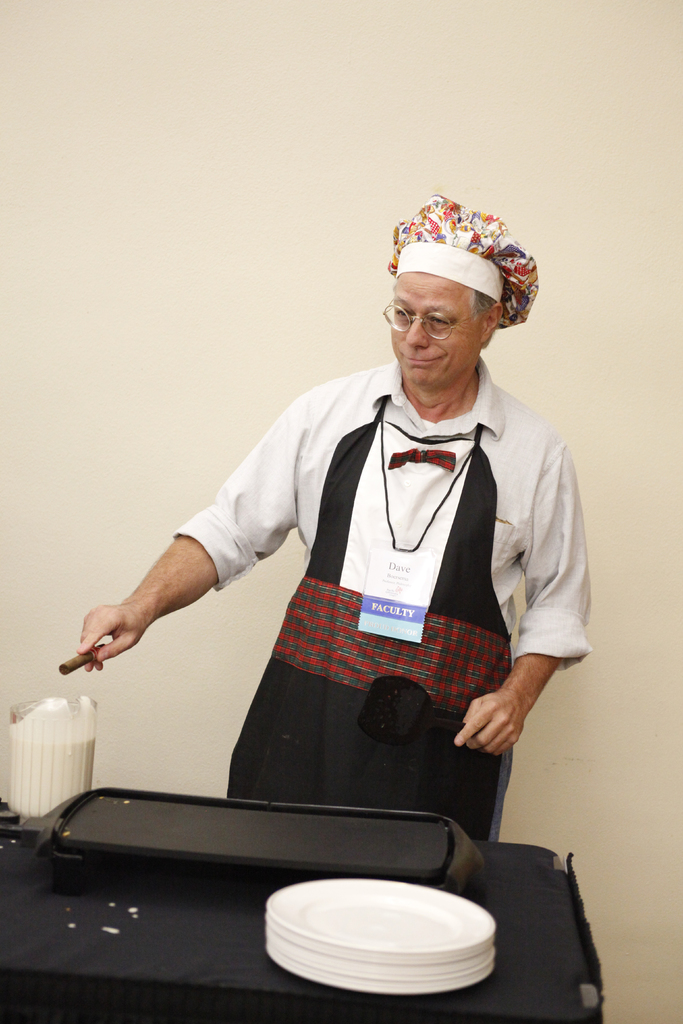plate: (240, 885, 488, 984)
